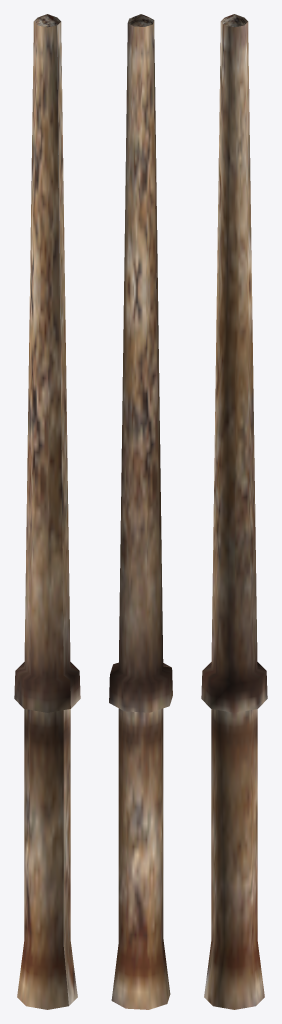
The model's file is wand.obj.
The picture shows the model from 3 angles, left to right: view 1: azimuth 90°, elevation 25°; view 2: azimuth 150°, elevation 25°; view 3: azimuth 270°, elevation 25°; orthographic projection.
Parts seen in each view (by area): view 1: material_0; view 2: material_0; view 3: material_0.
Boxes of the visible parts, left/top/right/bottom form: material_0: left=14, top=14, right=80, bottom=1009; material_0: left=109, top=14, right=172, bottom=1009; material_0: left=201, top=14, right=267, bottom=1009.
Size of the model in its own units: 2.87 by 47.07 by 2.87.
